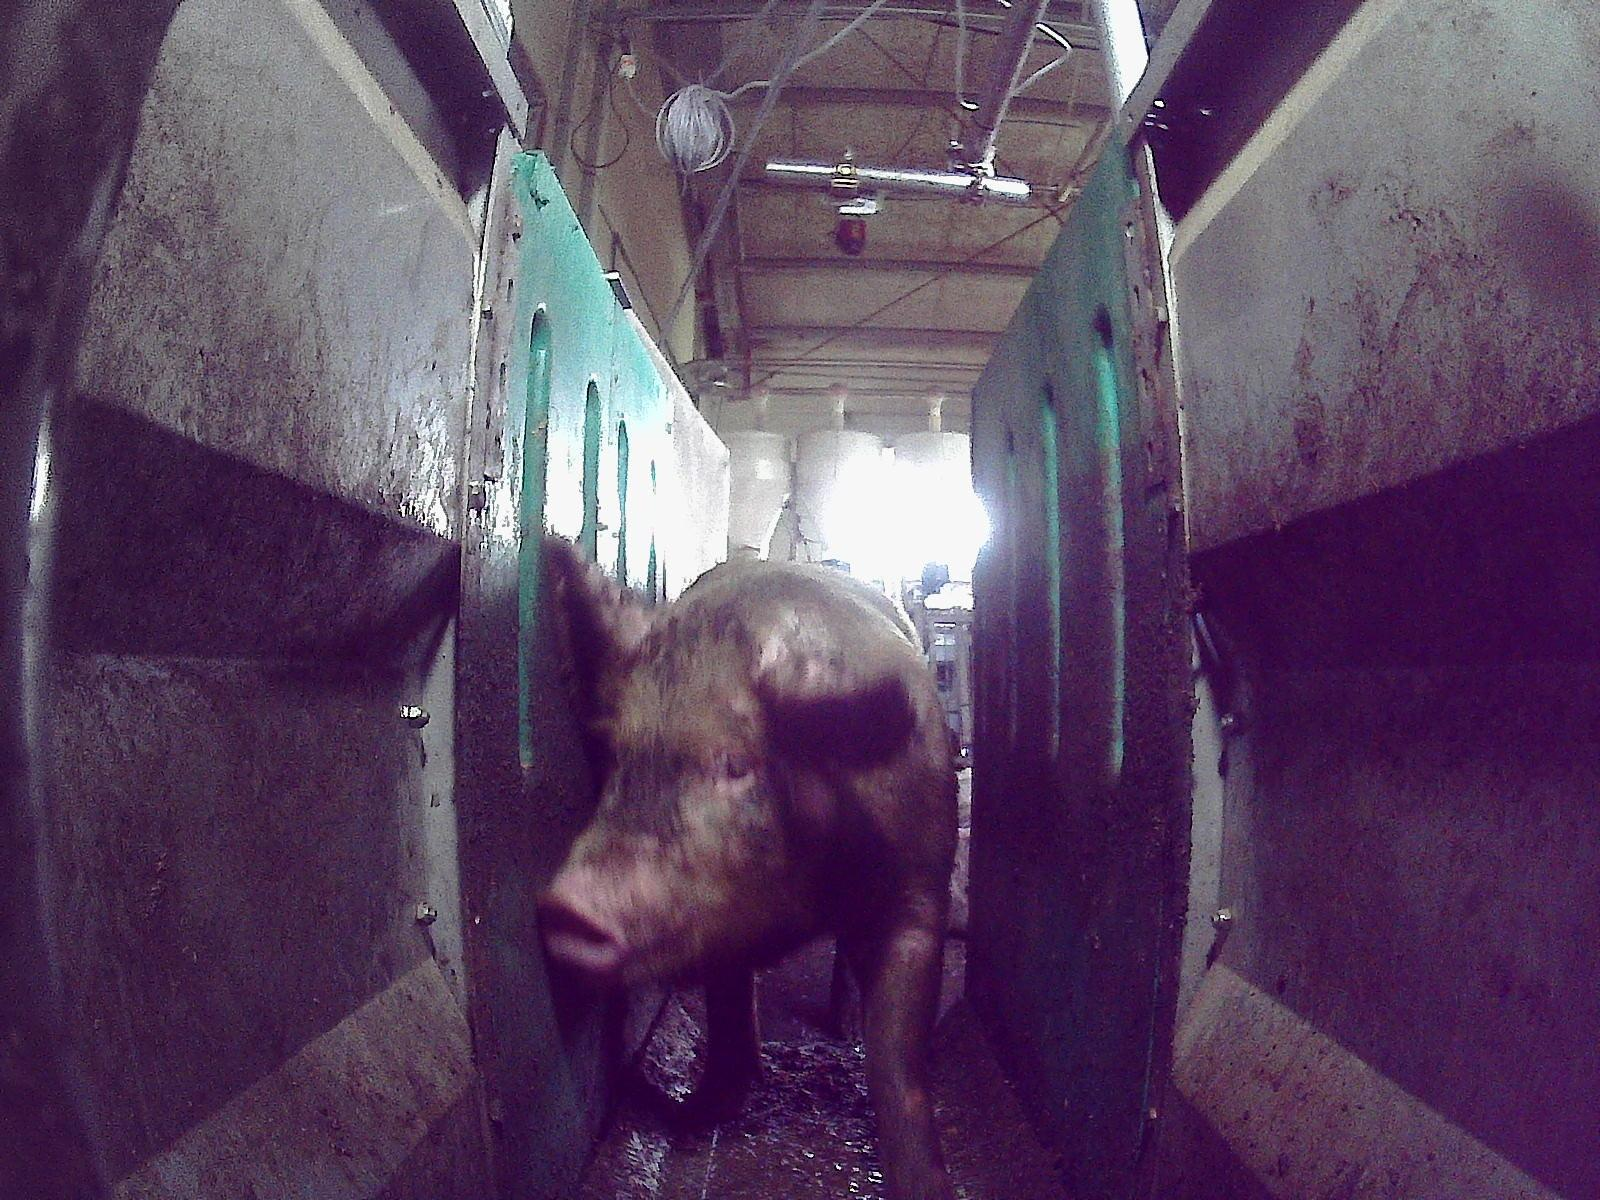Face: (536, 597, 846, 986)
